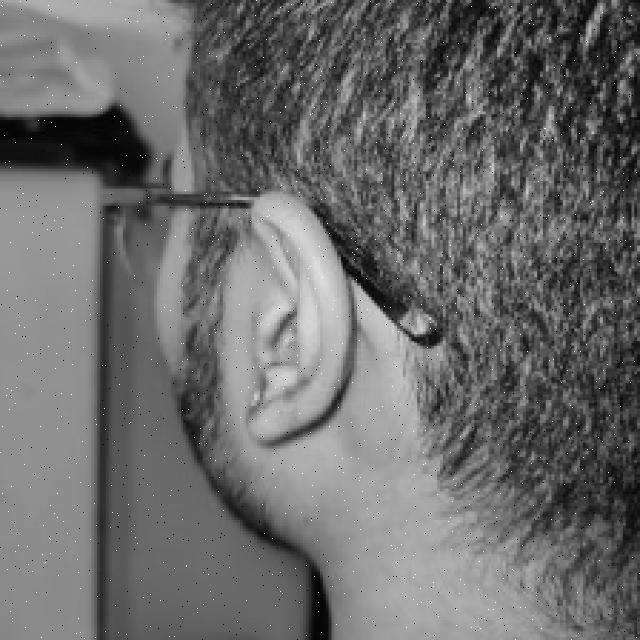ear: (246, 191, 351, 440)
